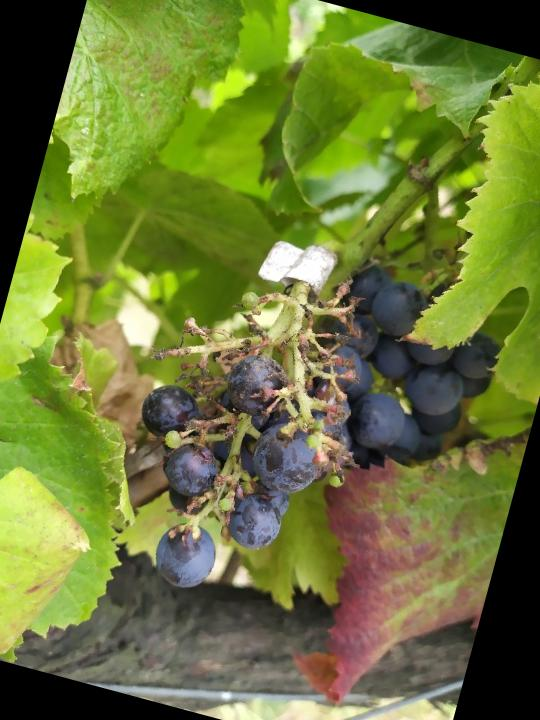grape: (92, 236, 404, 628)
